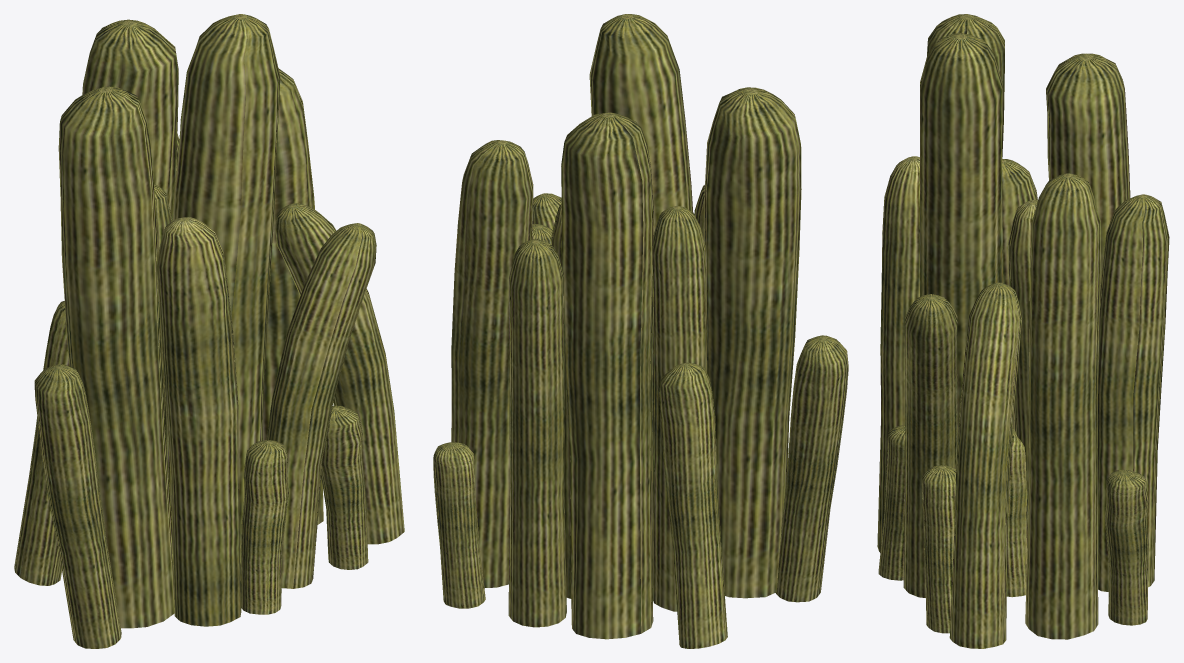
File: Columnar_Cactus2.FBX
3 views of the same model, side by side, from view 1: azimuth 30°, elevation 25°; view 2: azimuth 150°, elevation 25°; view 3: azimuth 270°, elevation 25° (orthographic). The views are drawn at different scales.
Visible parts, largest first — view 1: Columnar_Cactus2; view 2: Columnar_Cactus2; view 3: Columnar_Cactus2.
Part boxes in pixels (bbox=[...]): Columnar_Cactus2: bbox=[14, 14, 404, 648]; Columnar_Cactus2: bbox=[433, 14, 848, 648]; Columnar_Cactus2: bbox=[877, 14, 1169, 648].
Bounding box in the file's own units: 50.67 × 72.42 × 34.83.
